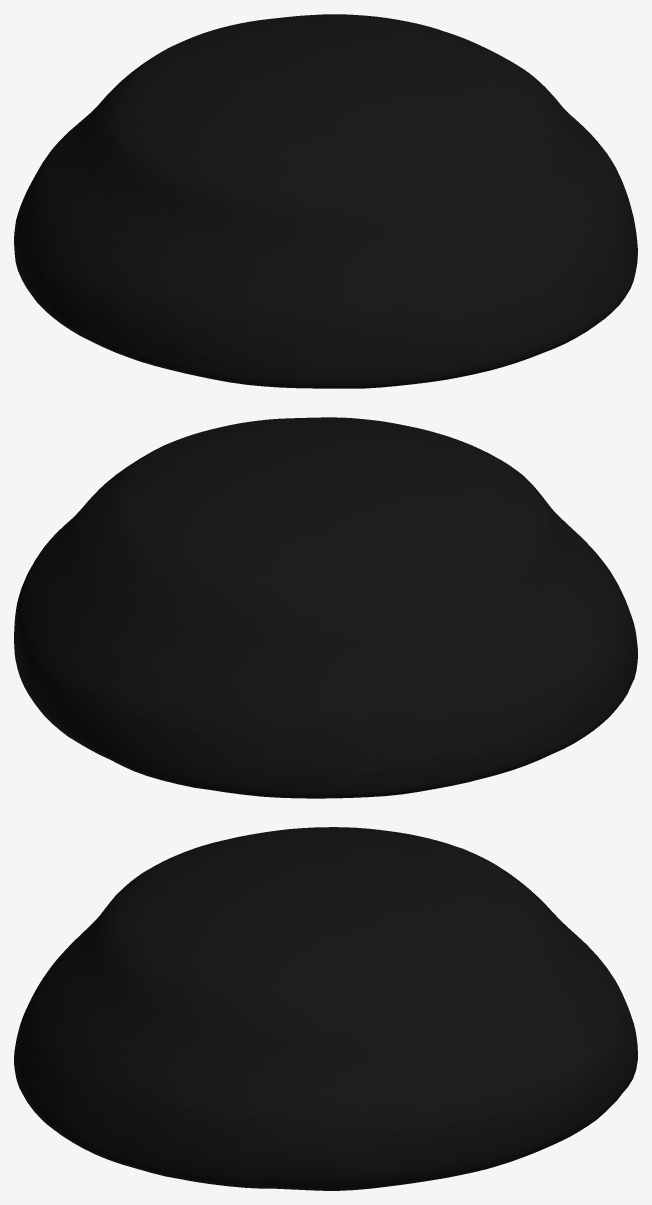
Rendered from topLeather.gltf.
3 views of the same model, one above another, from view 1: azimuth 30°, elevation 25°; view 2: azimuth 150°, elevation 25°; view 3: azimuth 270°, elevation 25° (orthographic). The views are drawn at different scales.
Visible parts, largest first — view 1: Retopo_middle-top.002; view 2: Retopo_middle-top.002; view 3: Retopo_middle-top.002.
Part boxes in pixels (x1=…): Retopo_middle-top.002: x1=14, y1=14, x2=637, y2=388; Retopo_middle-top.002: x1=14, y1=417, x2=637, y2=798; Retopo_middle-top.002: x1=14, y1=827, x2=637, y2=1190.
Size of the model in its own units: 4.8 by 1.65 by 4.88.
1 material, 1 textured.
